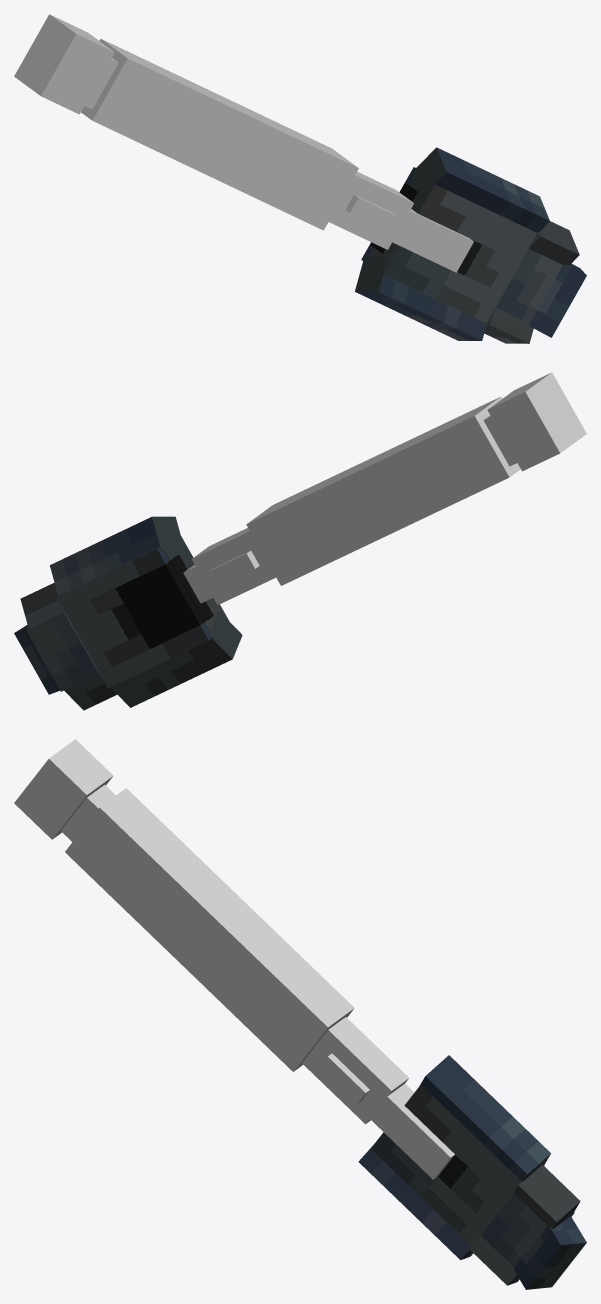
Rendered from shovel_stone.gltf.
The picture shows the model from 3 angles, top to bottom: view 1: azimuth 30°, elevation 25°; view 2: azimuth 150°, elevation 25°; view 3: azimuth 330°, elevation 25°; orthographic projection.
Visible parts, largest first — view 1: Node3D; view 2: Node3D; view 3: Node3D.
Boxes of the visible parts, x1,y1,x2,y2 form: Node3D: (14, 14, 586, 343); Node3D: (14, 372, 586, 710); Node3D: (14, 739, 586, 1289).
Bounding box in the file's own units: 0.7093 × 0.5284 × 0.0692.
